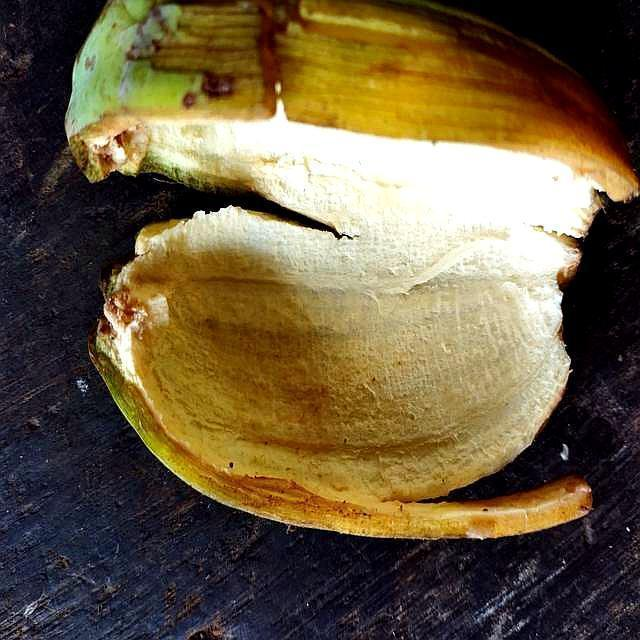Biodegradable: (65, 1, 640, 539)
